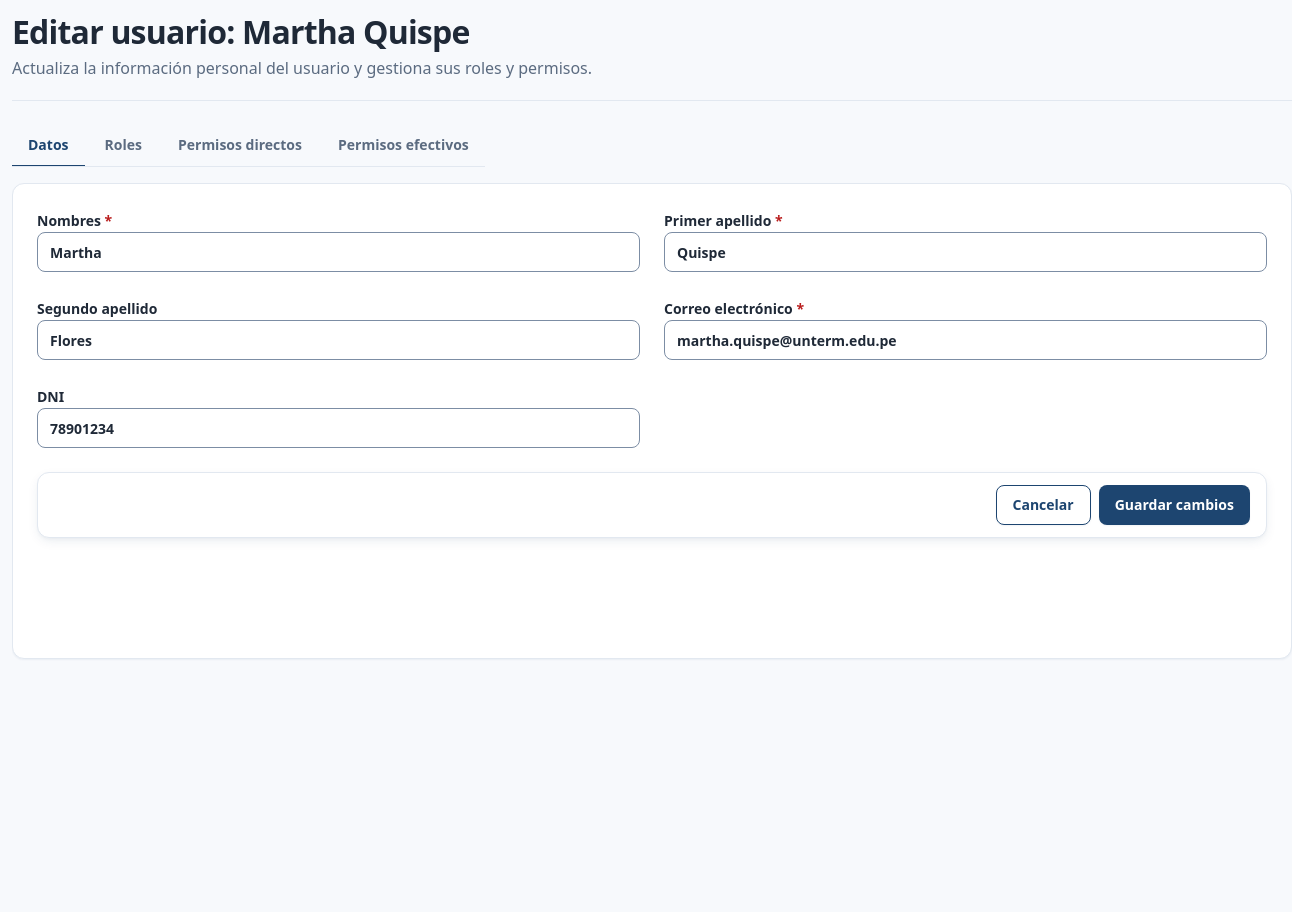
EditUserPage component (T-003-27) › keeps unsaved direct permissions when switching tabs
The width and height of the screenshot is (1292, 912).
Click the tab "Permisos directos": (240, 146) 162,125 -> 318,167
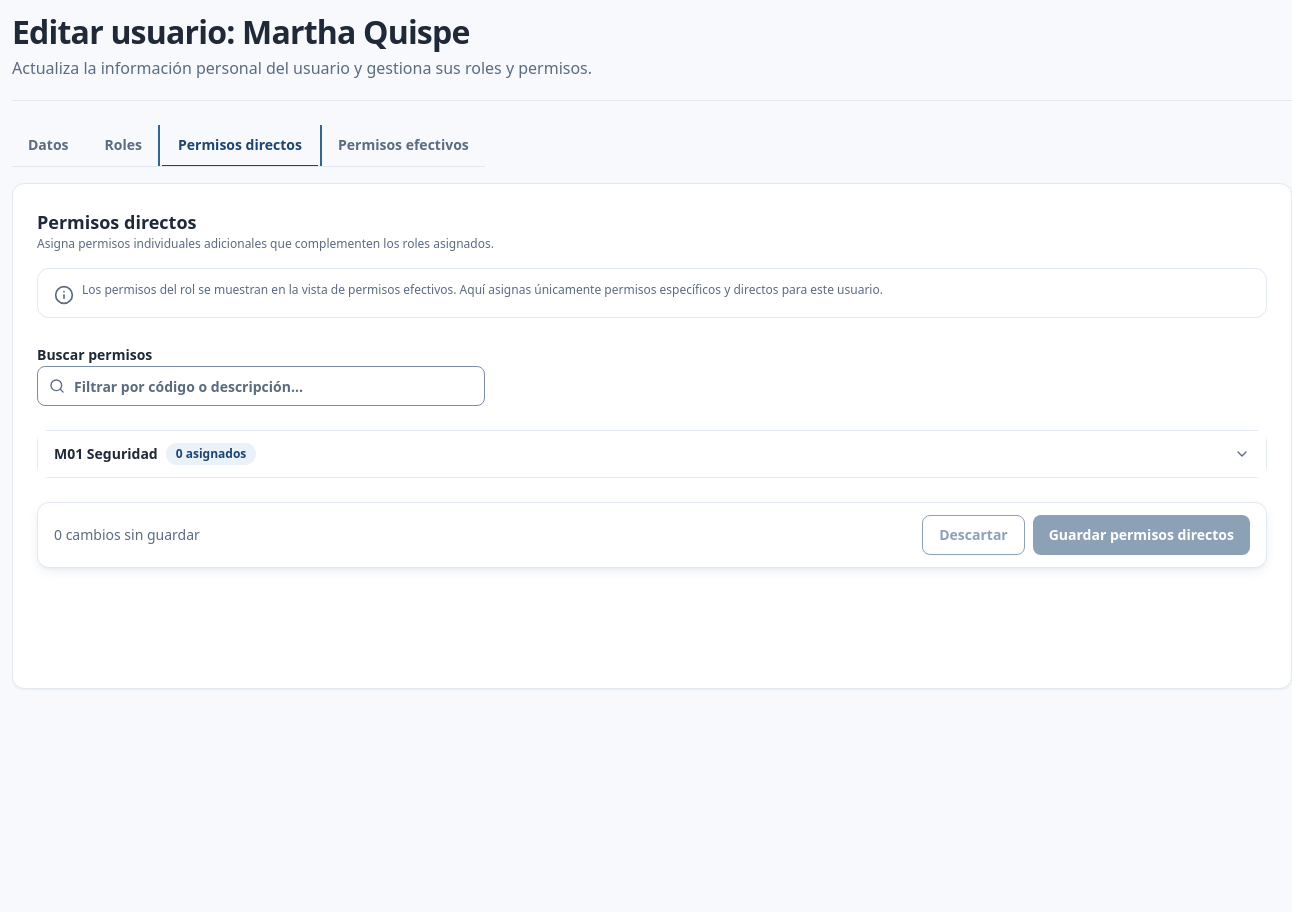
Click the button "M01 Seguridad 0 asignados": (106, 454) 38,431 -> 1266,477
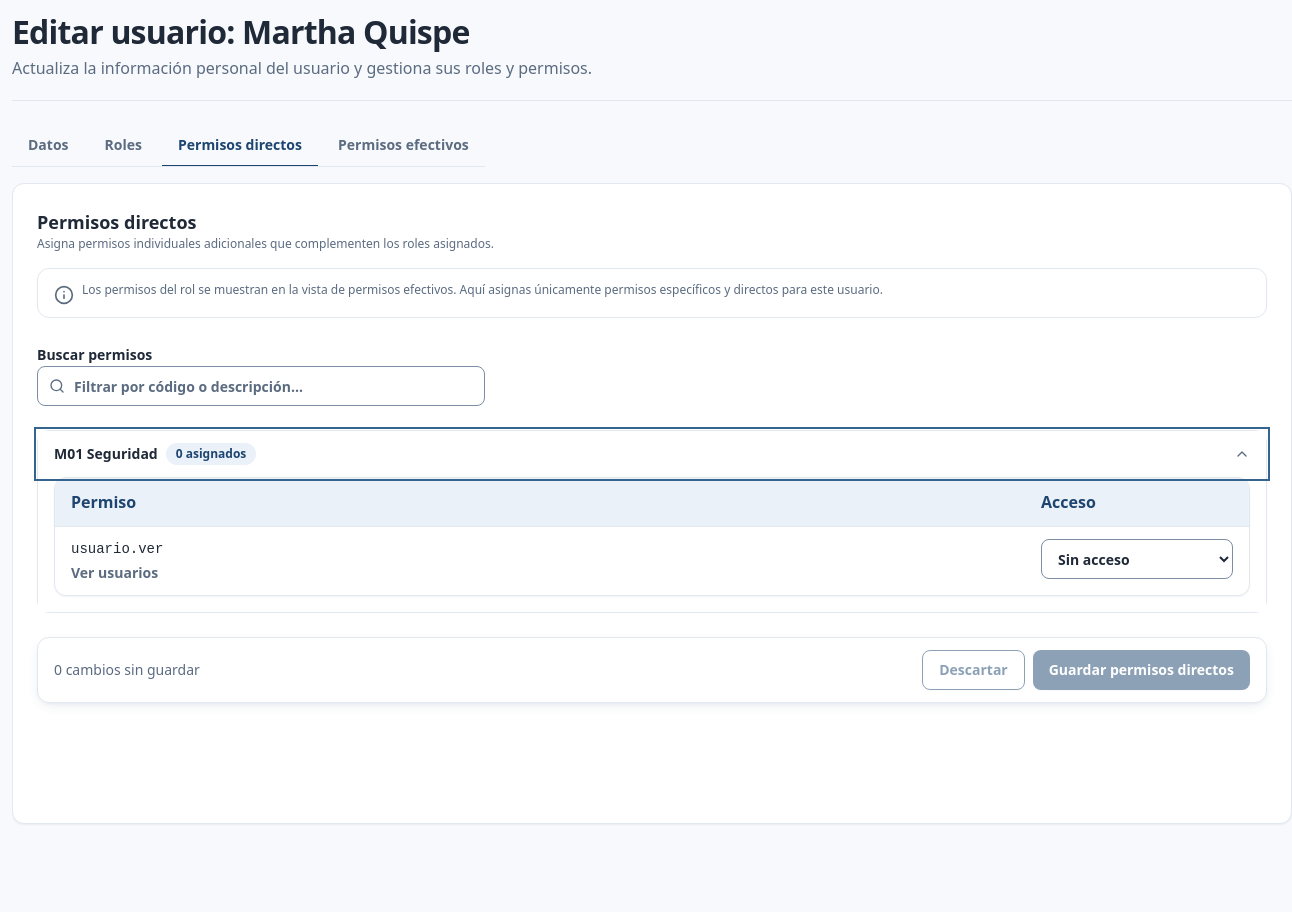
Select "Global" in the dropdown named "Acceso a usuario.ver": (1137, 559) 1041,539 -> 1233,579
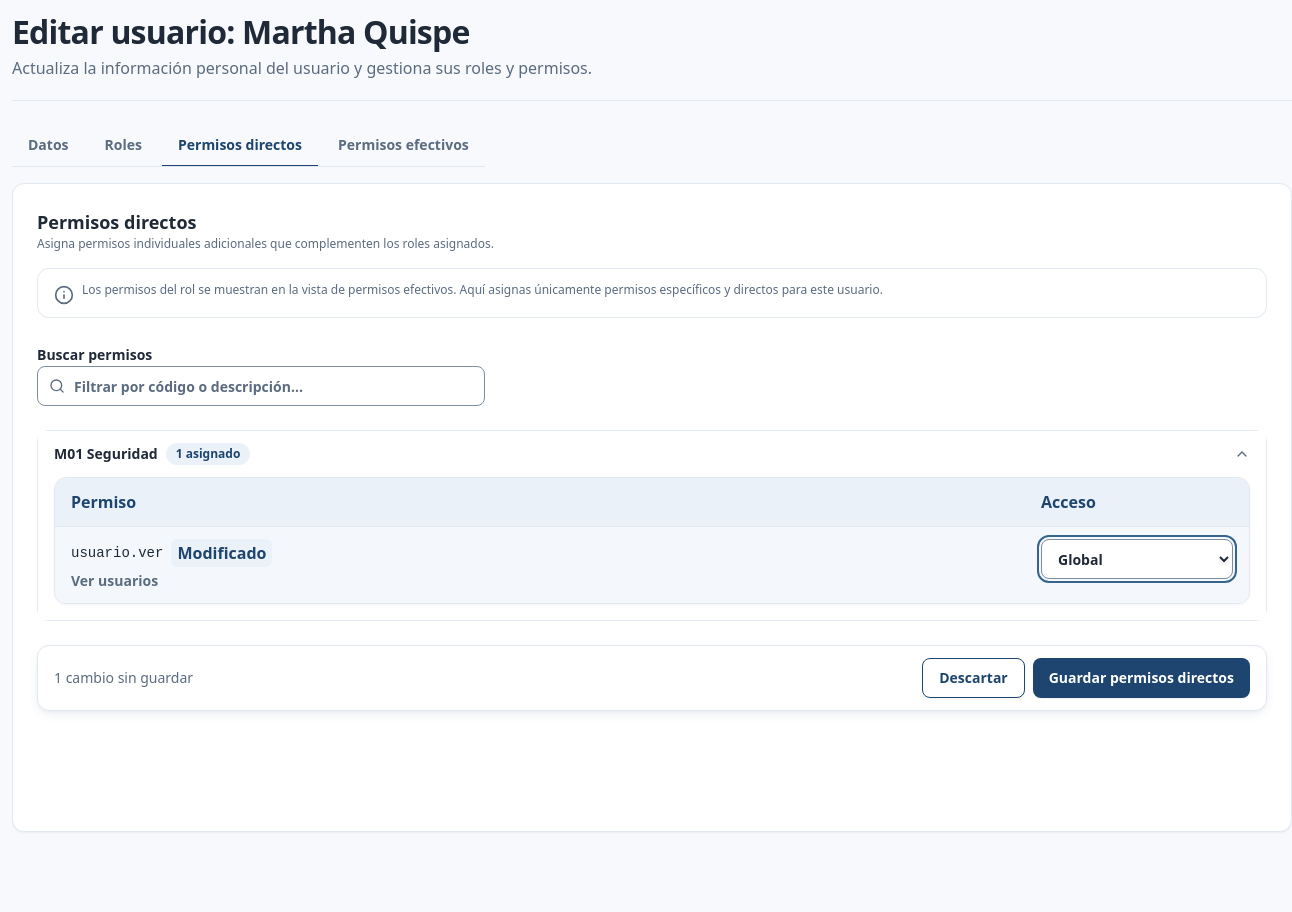
Now the text "1 cambio sin guardar" is shown, box 54,668 -> 193,688
Click the tab "Datos": (48, 146) 12,125 -> 84,167
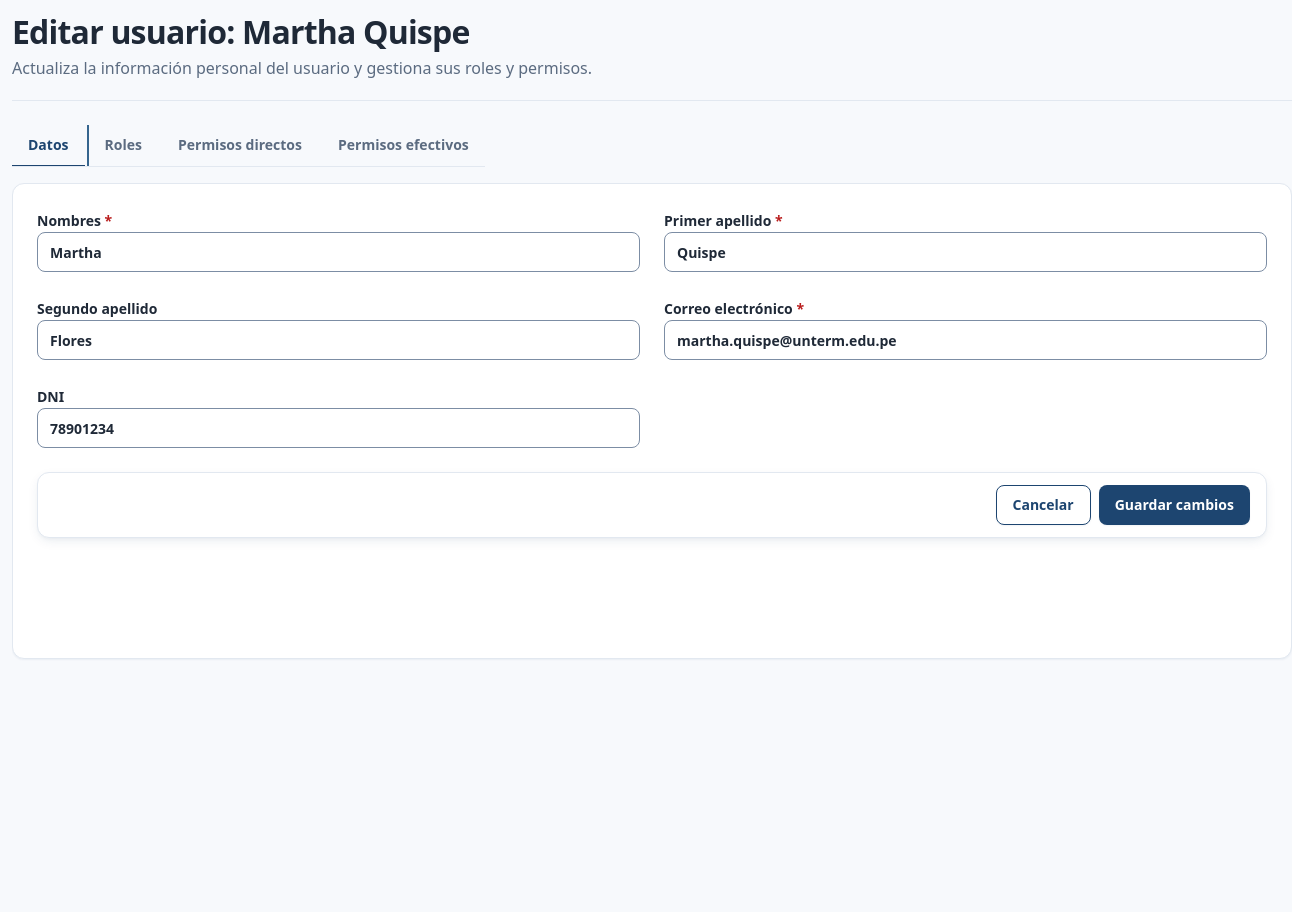
Click the tab "Permisos directos": (240, 146) 162,125 -> 318,167
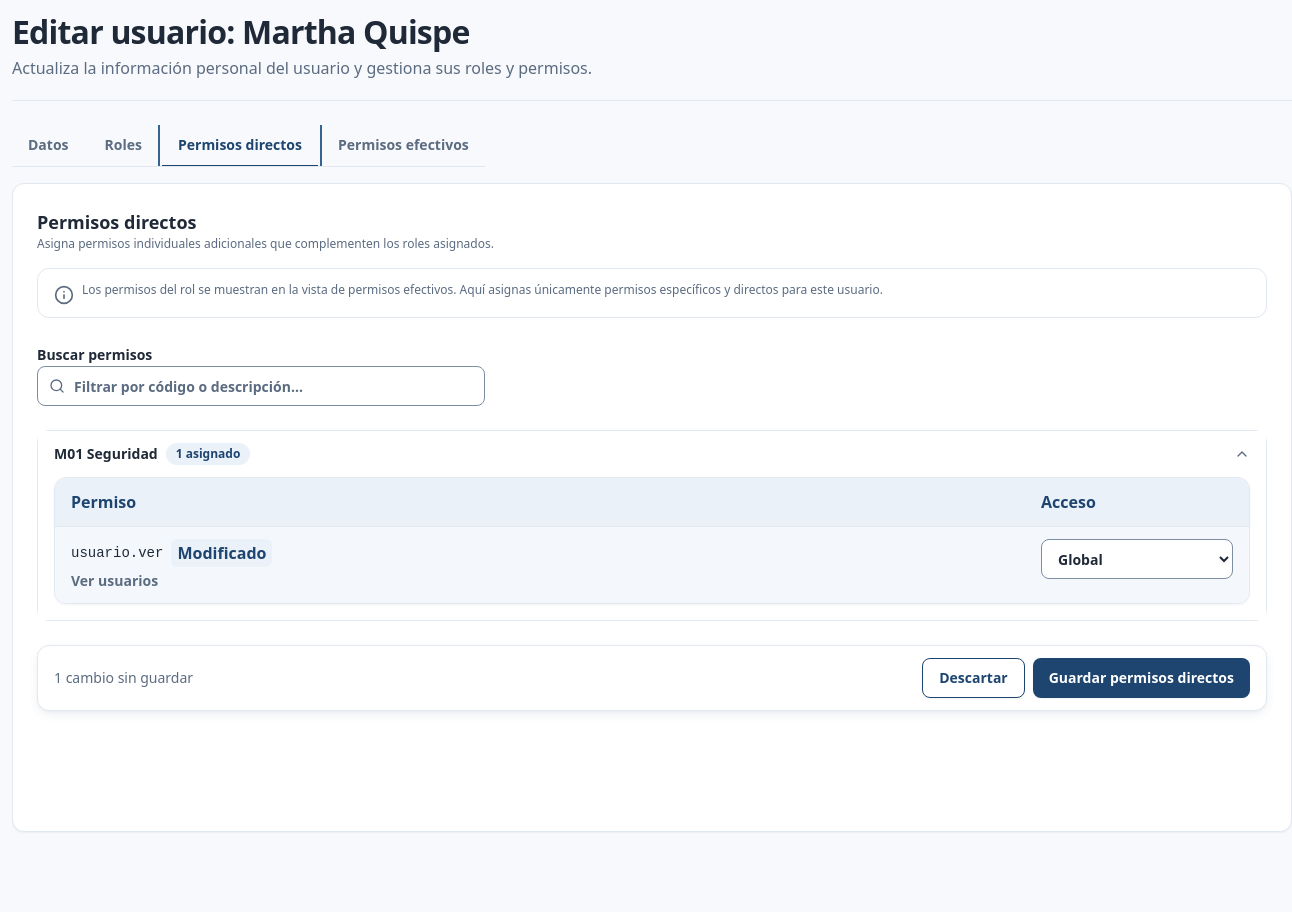
Now the text "1 cambio sin guardar" is shown, box 54,668 -> 193,688
